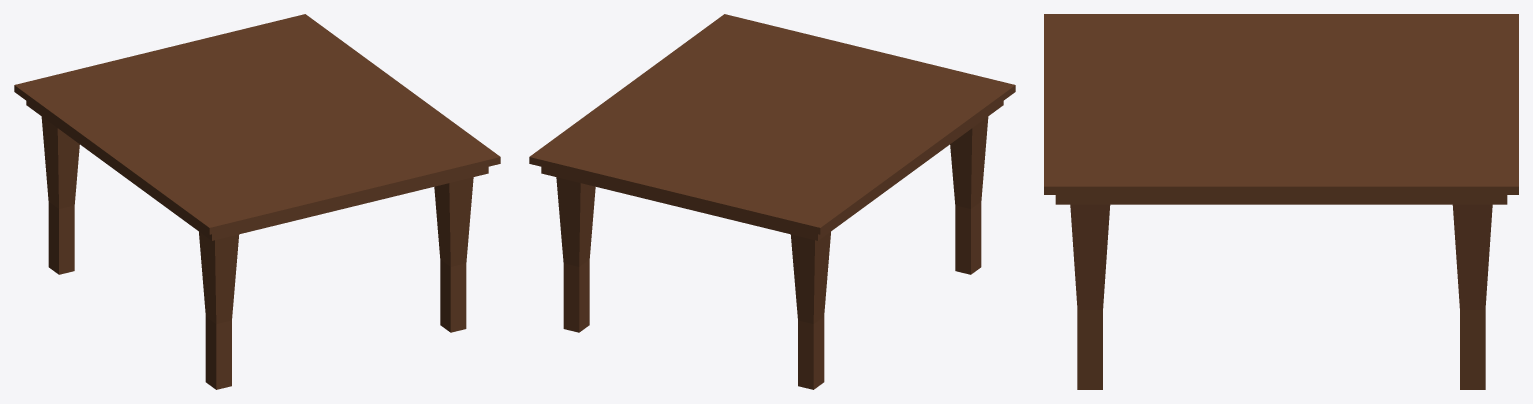
Rendered from livingroom table.fbx.
3 renders of one model, left to right at view 1: azimuth 30°, elevation 25°; view 2: azimuth 150°, elevation 25°; view 3: azimuth 270°, elevation 25°, orthographic. The views are drawn at different scales.
Visible parts, largest first — view 1: Cube; view 2: Cube; view 3: Cube.
Boxes of the visible parts, x1,y1,x2,y2 form: Cube: [14, 14, 500, 389]; Cube: [529, 14, 1015, 389]; Cube: [1044, 14, 1518, 389].
Bounding box in the file's own units: 815 × 474 × 947.
